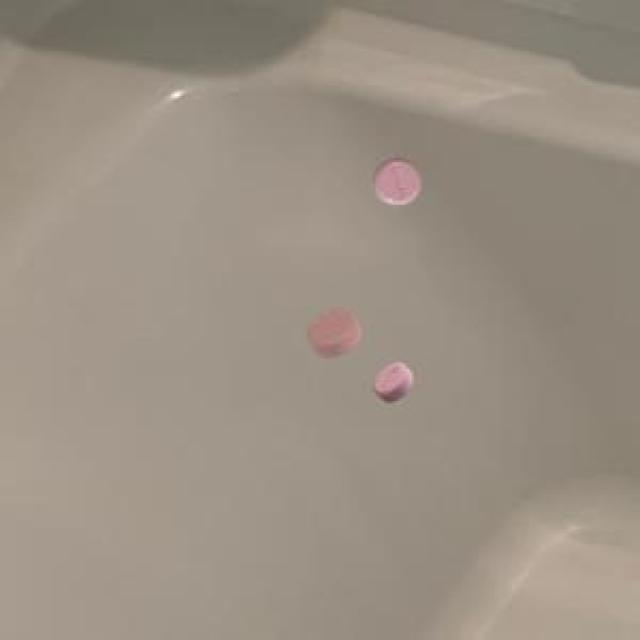Kremil_S: (292, 295, 368, 361), (363, 154, 432, 218), (367, 358, 422, 406)
